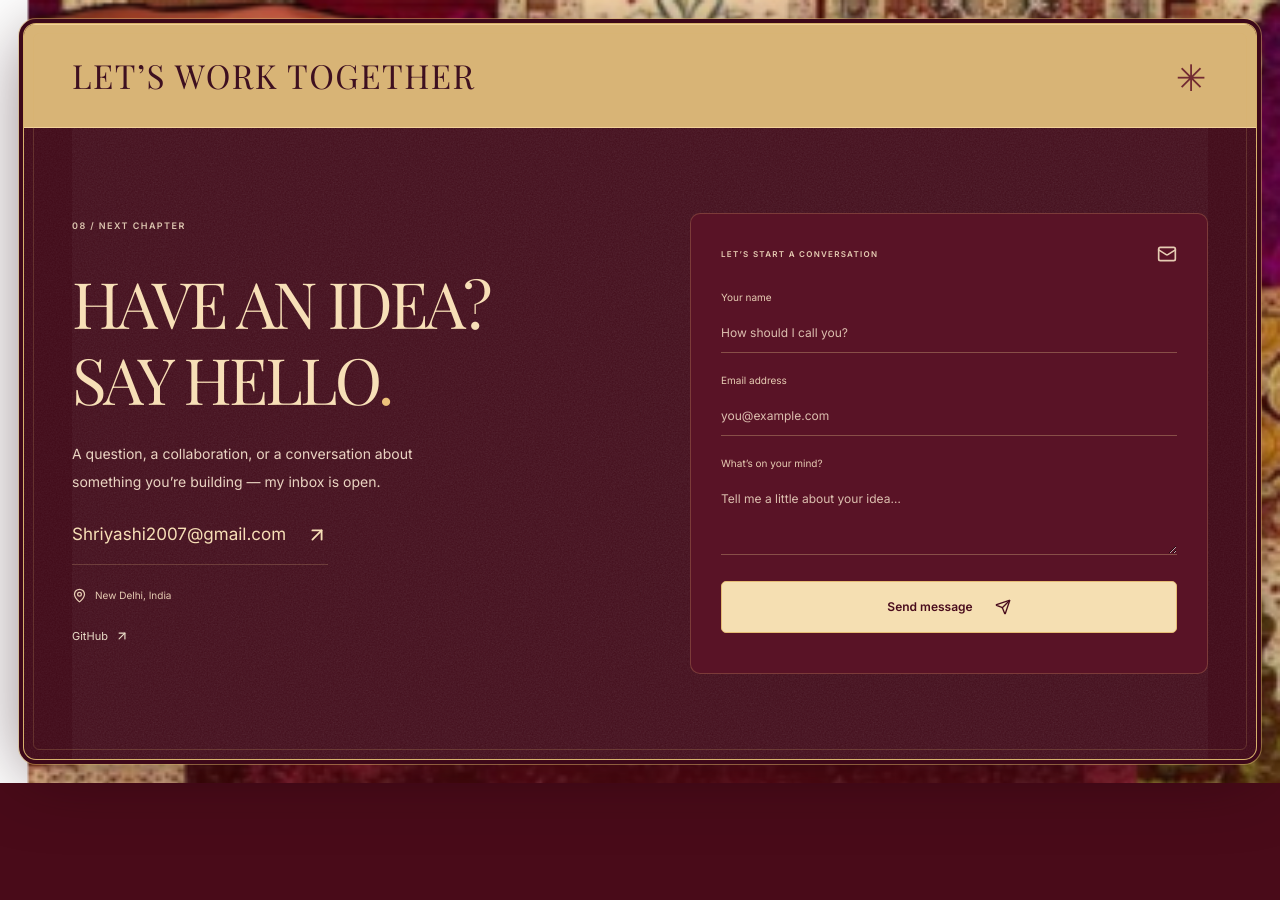
Test: blocks invalid fields and exposes validation messages
Click the button "Send message": {"x": 949, "y": 607} [721,581,1177,633]
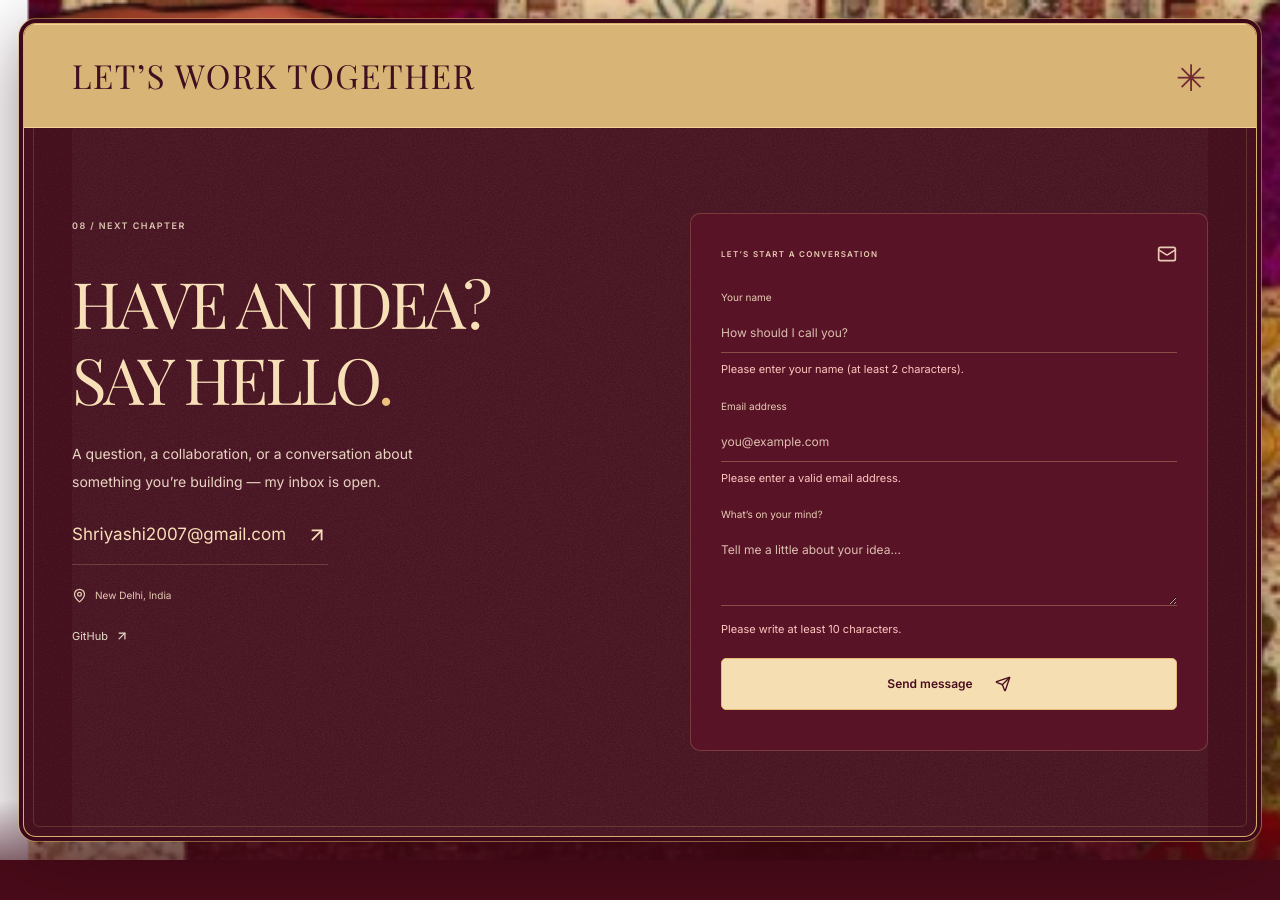
Now the text "Please enter your name (at least 2 characters)." is shown, box [721,362,964,376]
Now the text "Please enter a valid email address." is shown, box [721,470,901,484]
